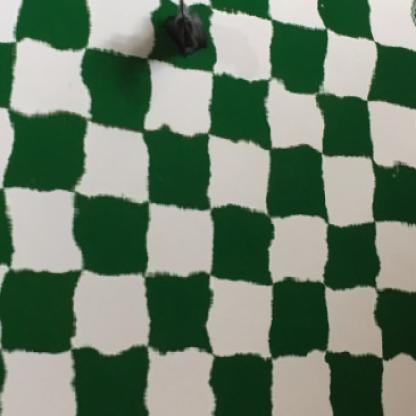black-knight: (167, 0, 213, 60)
